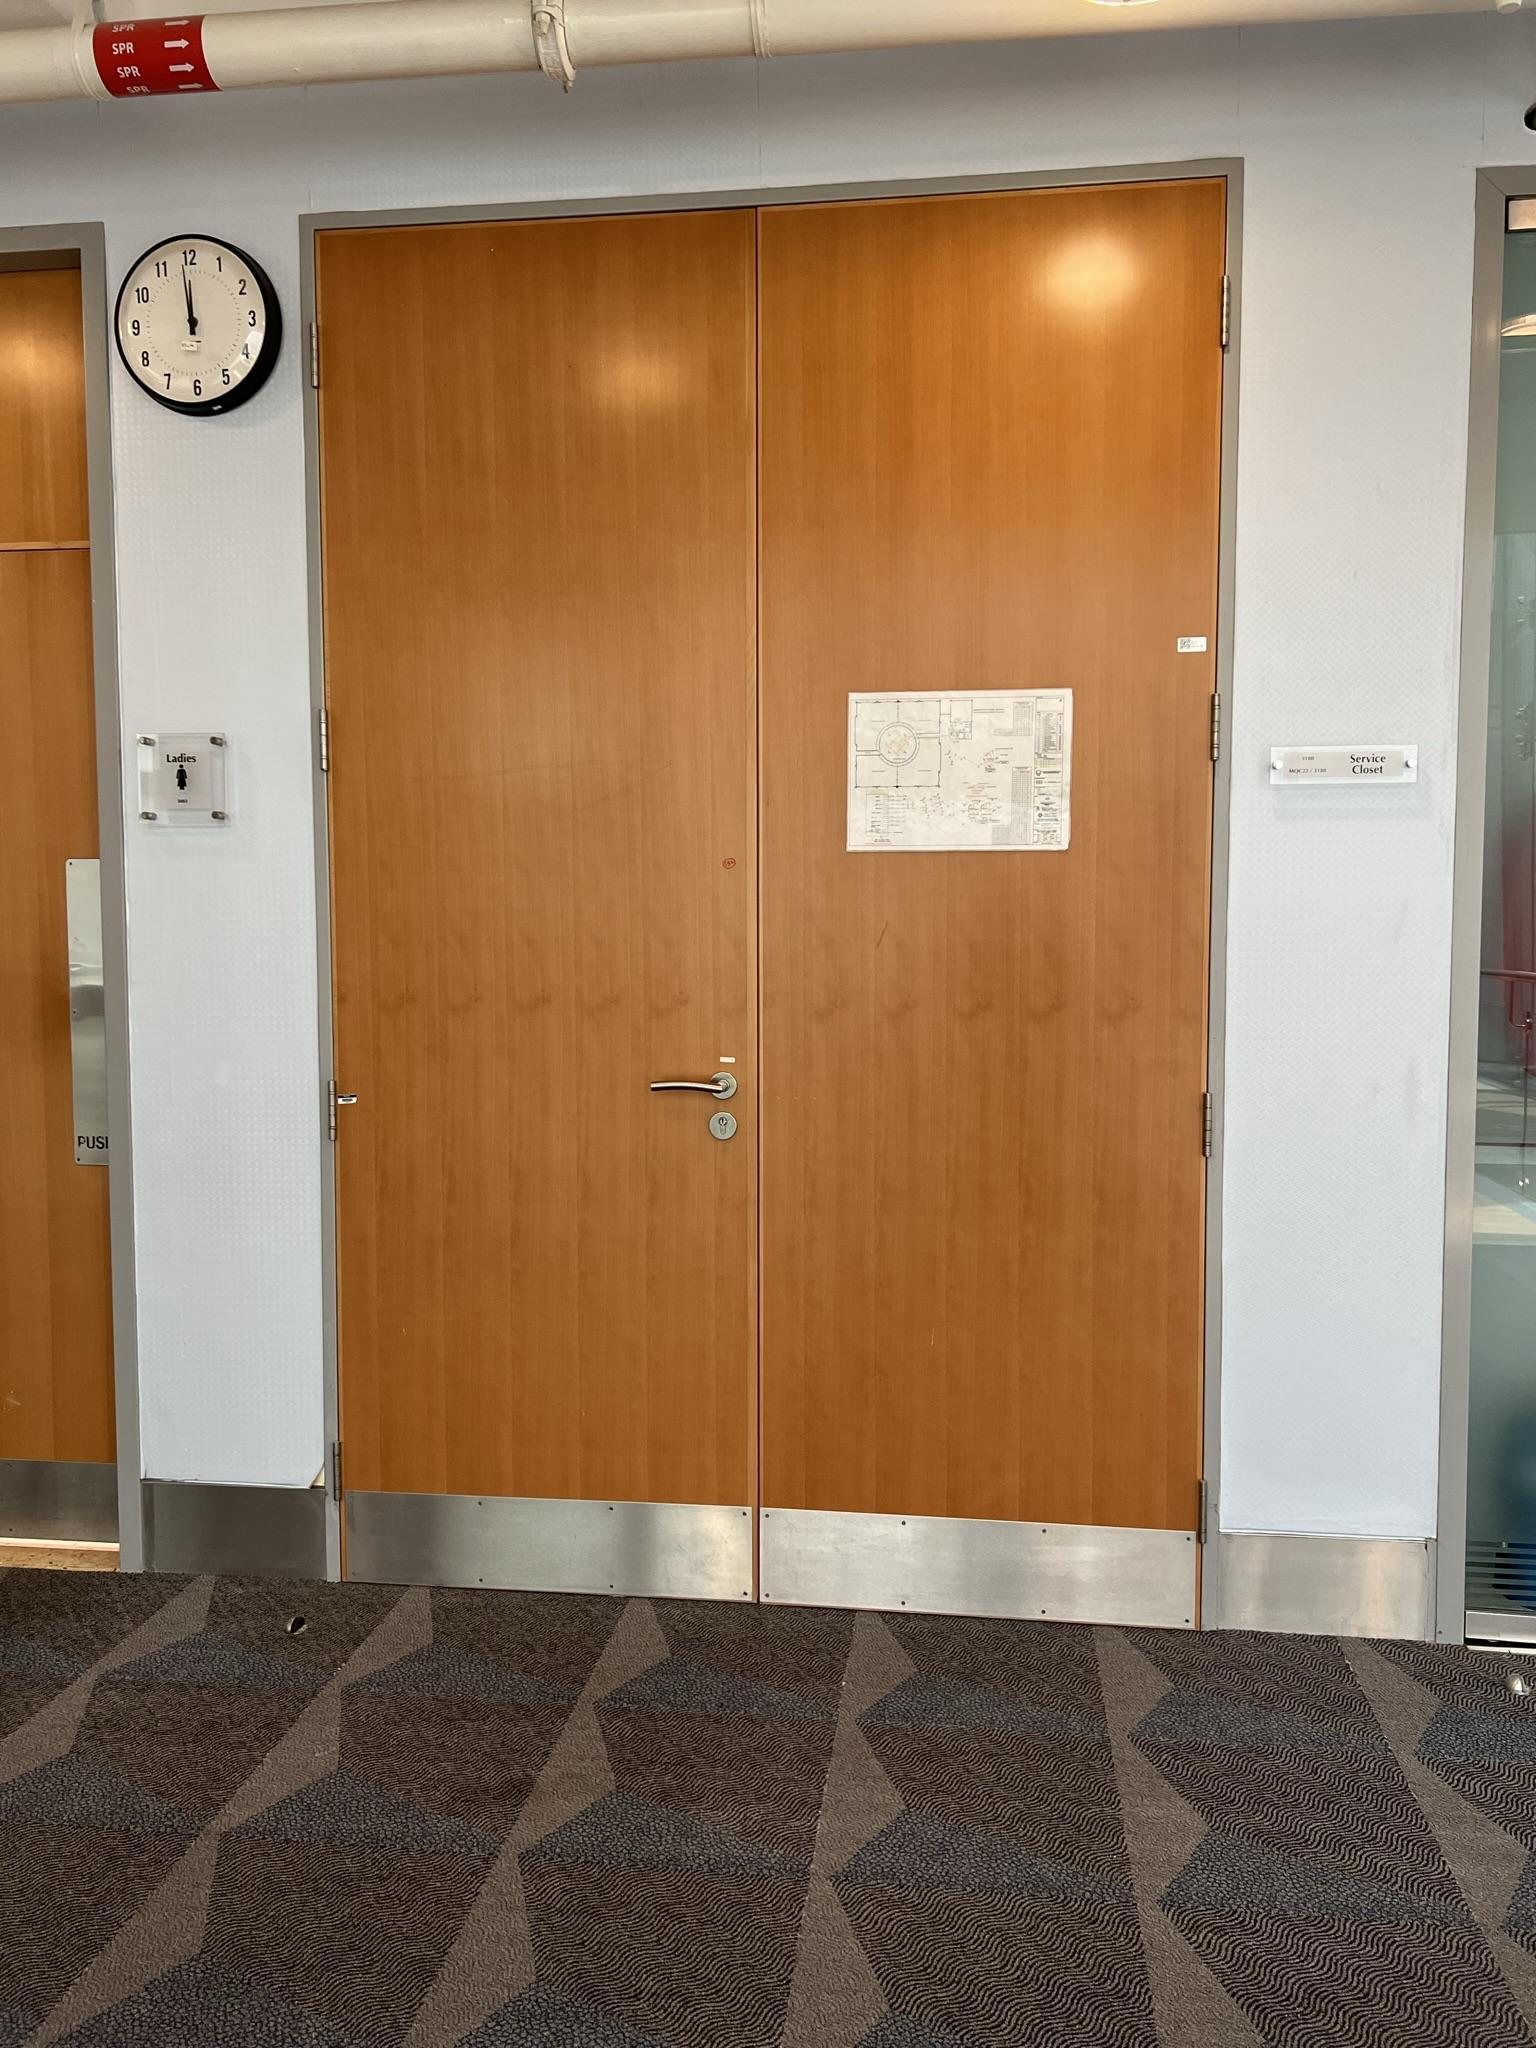door: (757, 202, 1205, 1638), (323, 221, 753, 1598)
handle: (642, 1051, 749, 1166)
